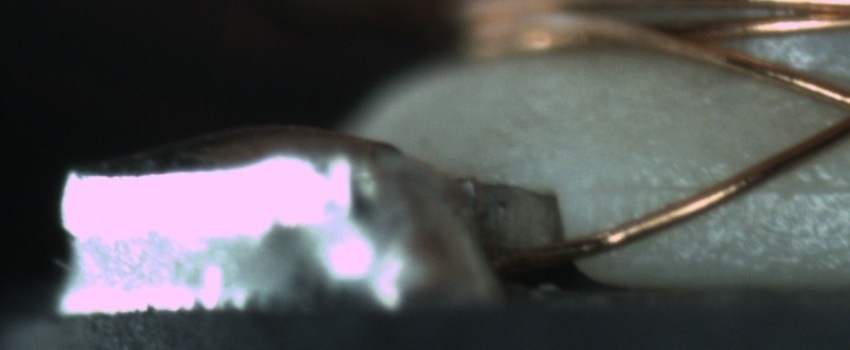DL: (620, 159, 850, 213)
